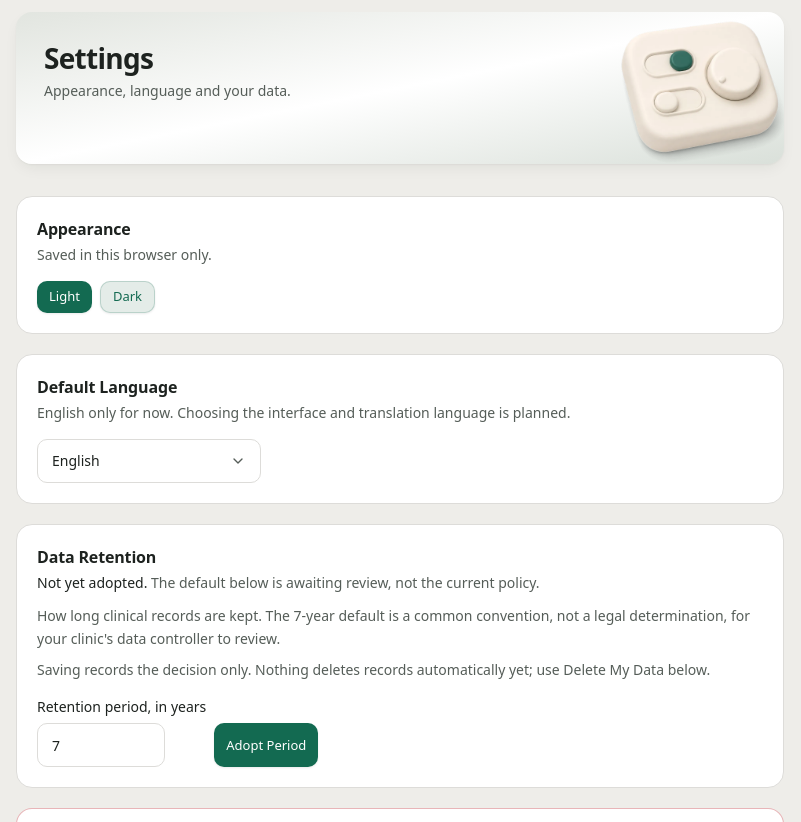
Test case: the retention period › adopts the entered period
Expected: the text "Not yet adopted." is shown, [37,573,147,592]
Replace the text in the number field labelled "Retention period, in years" with "12": [101, 745] box [37,723,165,767]
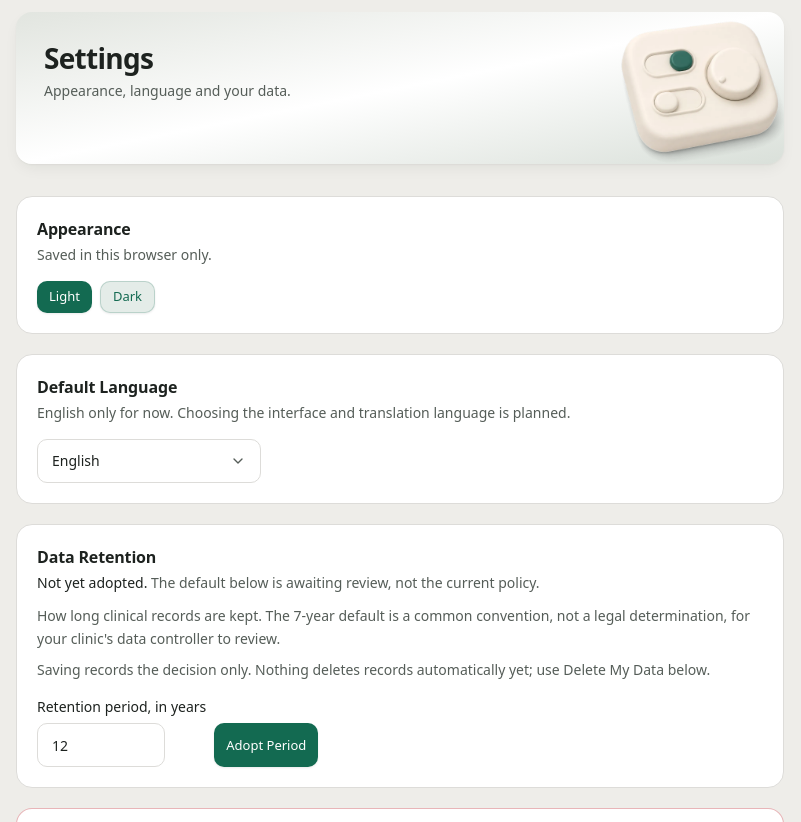
Click the button "Adopt Period": [266, 745] box [214,723,318,767]
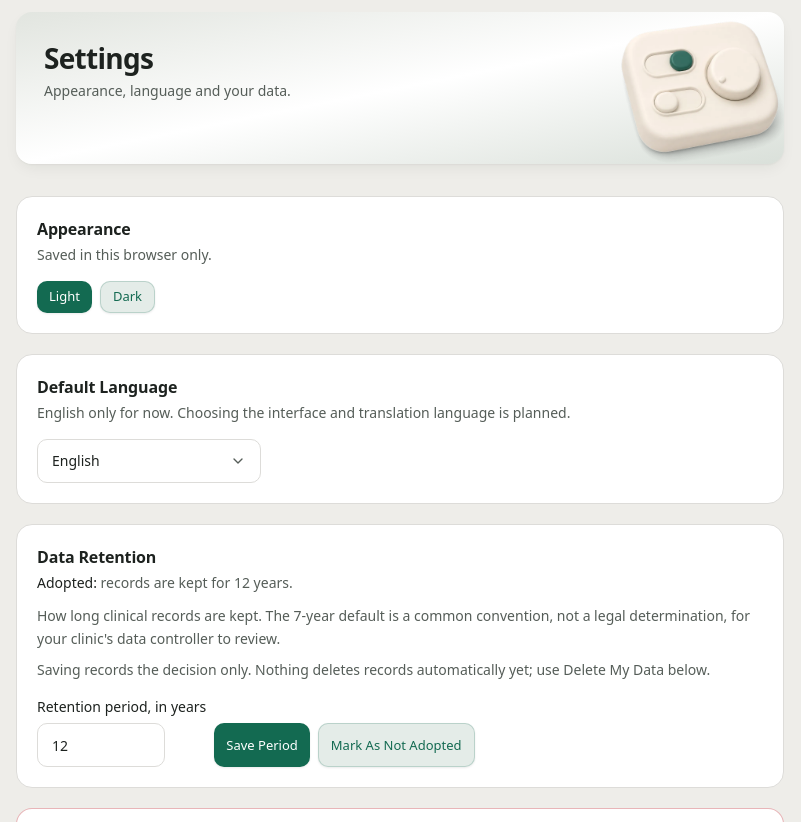
Expected: the text "Adopted: records are kept for 12 years." is shown, [37,573,293,592]
